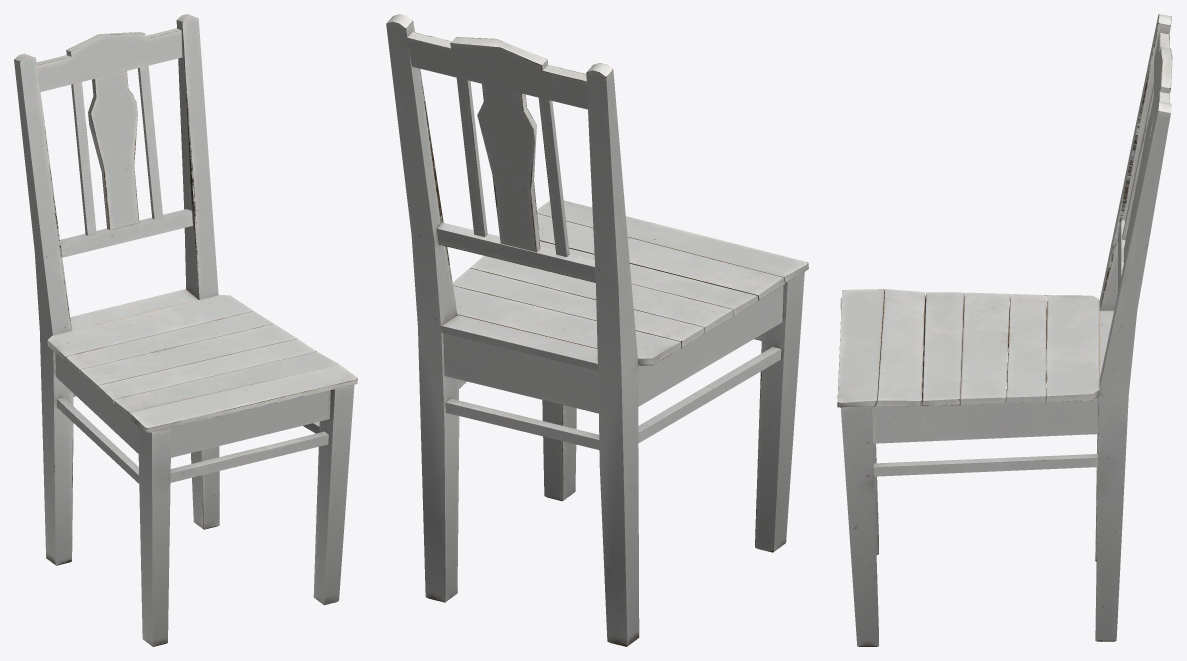
Rendered from painted_wooden_chair_01.glb.
The picture shows the model from 3 angles, left to right: view 1: azimuth 30°, elevation 25°; view 2: azimuth 150°, elevation 25°; view 3: azimuth 270°, elevation 25°; orthographic projection. The views are drawn at different scales.
Parts seen in each view (by area): view 1: painted_wooden_chair_01; view 2: painted_wooden_chair_01; view 3: painted_wooden_chair_01.
Part boxes in pixels (x1=…): painted_wooden_chair_01: x1=14, y1=14, x2=357, y2=646; painted_wooden_chair_01: x1=386, y1=14, x2=808, y2=646; painted_wooden_chair_01: x1=837, y1=14, x2=1172, y2=646.
Bounding box in the file's own units: 0.4298 × 0.9558 × 0.5384.
1 material, 1 textured.
